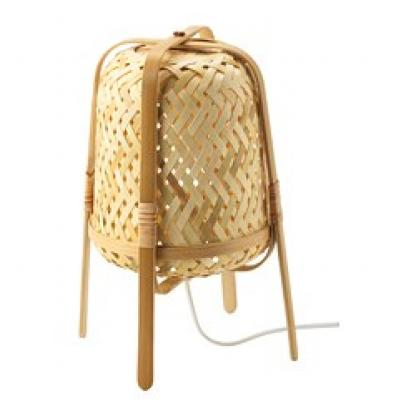Lamp: (43, 12, 316, 401)
